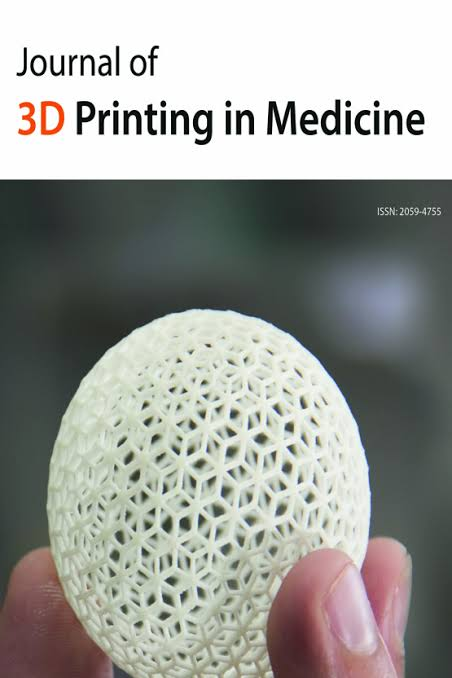3d print: (48, 310, 369, 677)
